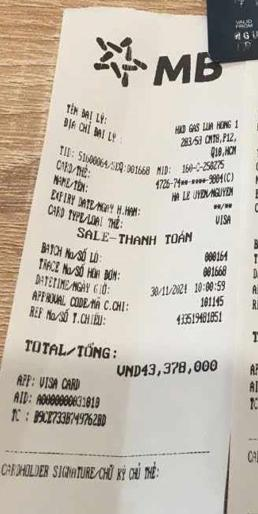receipt: (2, 23, 249, 449)
